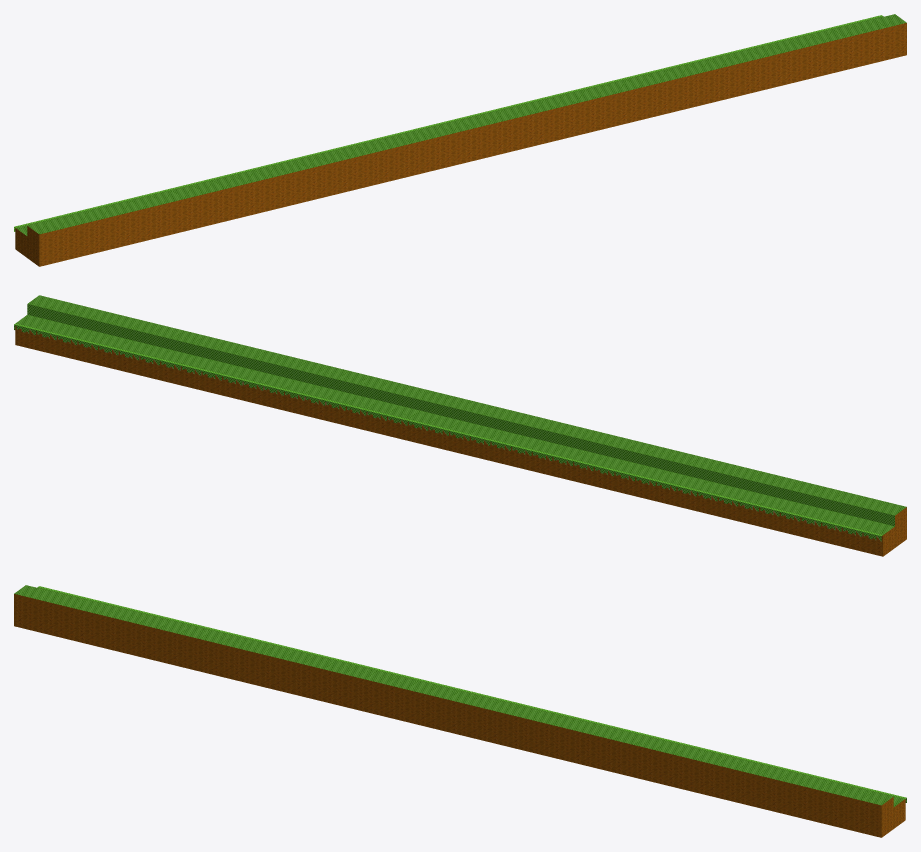
The model's file is delete.fbx.
3 views of the same model, one above another, from view 1: azimuth 30°, elevation 25°; view 2: azimuth 150°, elevation 25°; view 3: azimuth 330°, elevation 25° (orthographic).
Visible parts, largest first — view 1: polymsh81; view 2: polymsh81; view 3: polymsh81.
Part boxes in pixels (x1,y1,x2,y2): polymsh81: (14, 14, 906, 266); polymsh81: (14, 295, 906, 556); polymsh81: (14, 585, 906, 837).
Bounding box in the file's own units: 3326 × 119 × 168.
